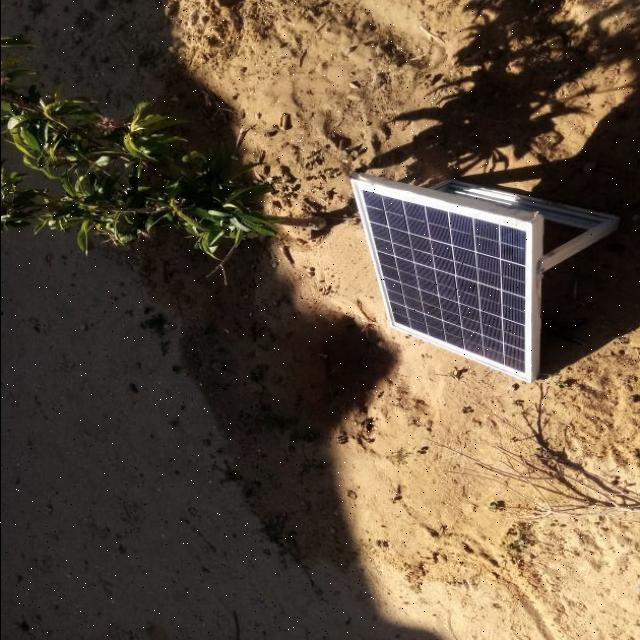Normal Solar Panel: (350, 177, 530, 382)
